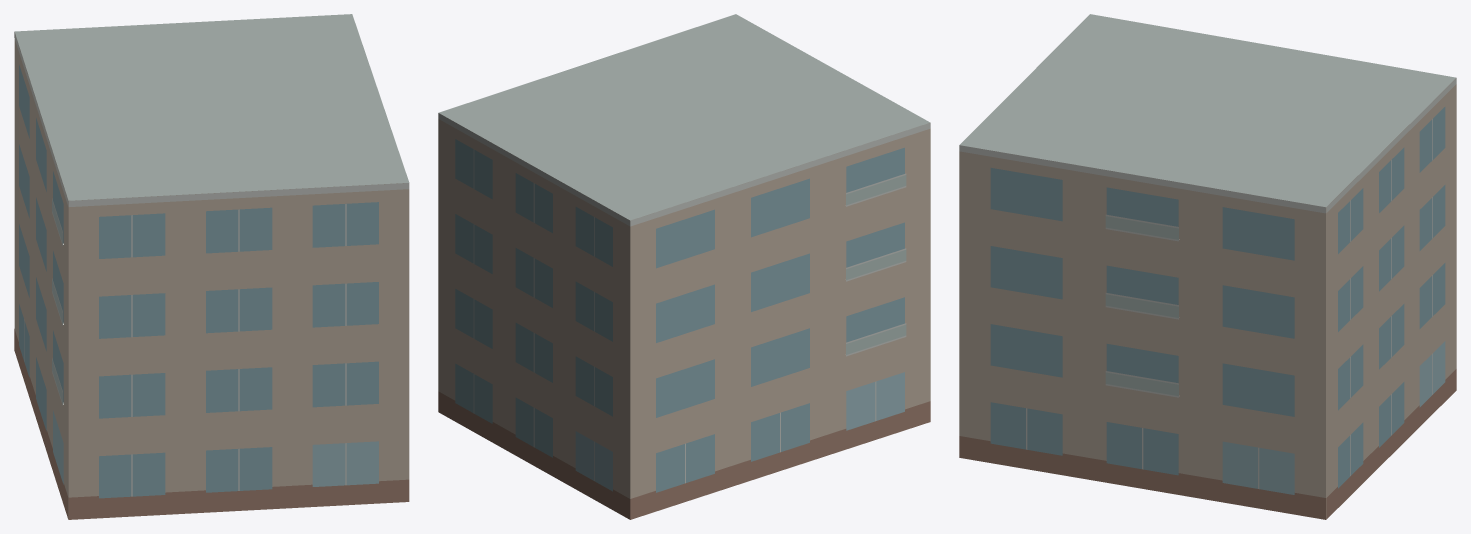
File: survey-upis-32668696.glb
3 views of the same model, side by side, from view 1: azimuth 30°, elevation 25°; view 2: azimuth 150°, elevation 25°; view 3: azimuth 270°, elevation 25° (orthographic). The views are drawn at different scales.
Parts seen in each view (by area): view 1: survey-upis-32668696.tmp; view 2: survey-upis-32668696.tmp; view 3: survey-upis-32668696.tmp.
Part boxes in pixels (bbox=[...]): survey-upis-32668696.tmp: bbox=[14, 14, 409, 519]; survey-upis-32668696.tmp: bbox=[438, 14, 930, 519]; survey-upis-32668696.tmp: bbox=[959, 14, 1456, 519].
Size of the model in its own units: 16.18 by 12.2 by 17.6.
